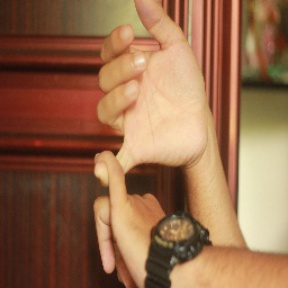S: (83, 1, 205, 283)
